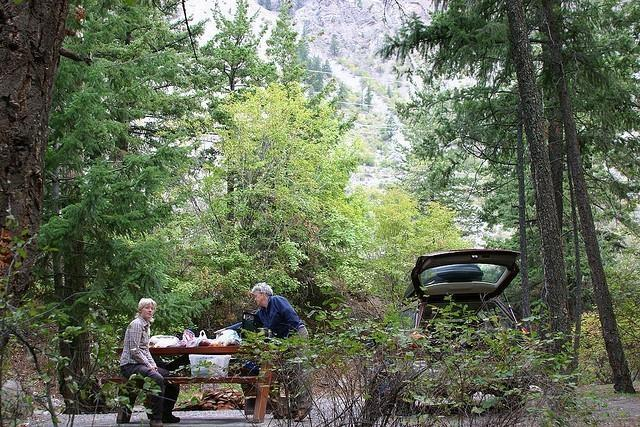car: (396, 249, 530, 335)
